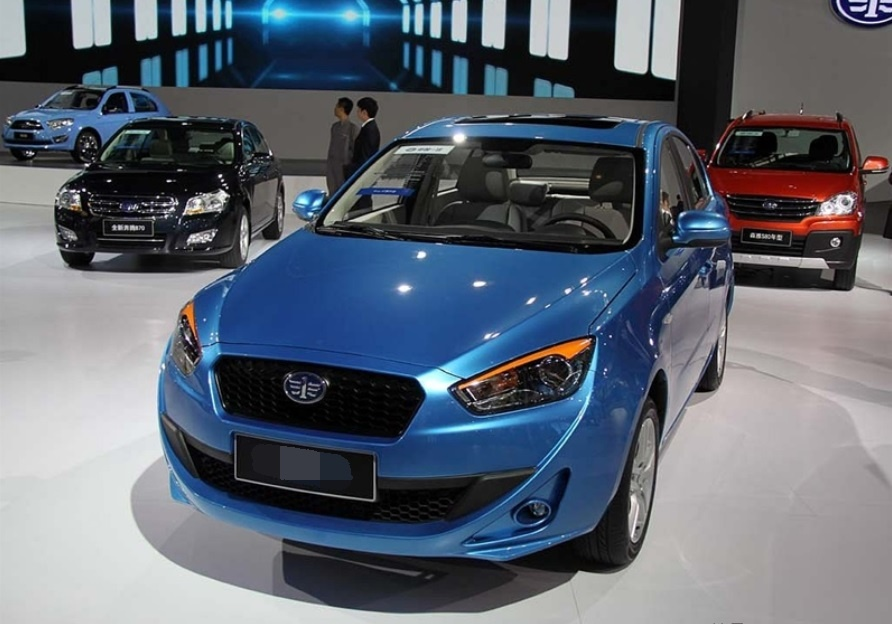family sedan: (153, 118, 743, 566)
